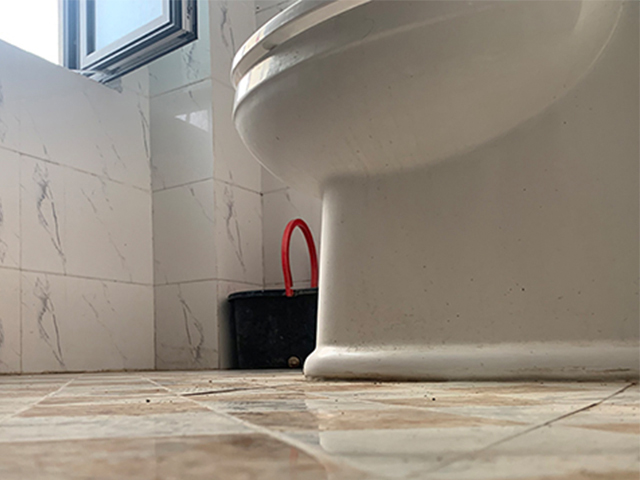closestool: (229, 1, 640, 382)
